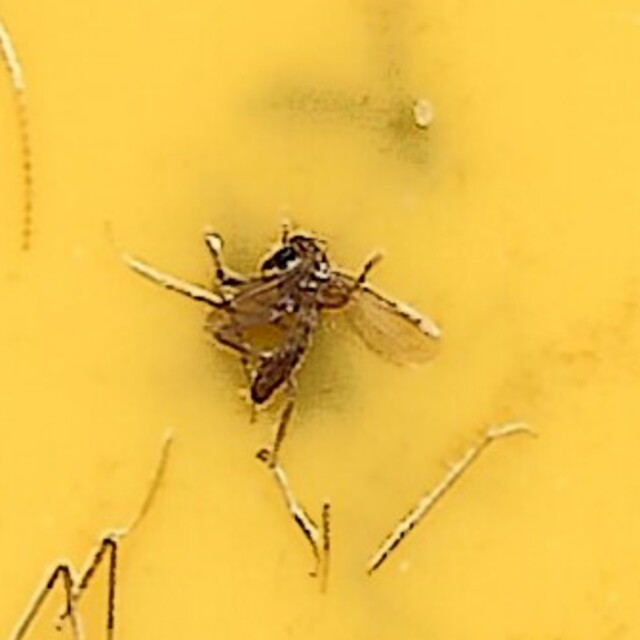Nematocera: (190, 225, 450, 415)
